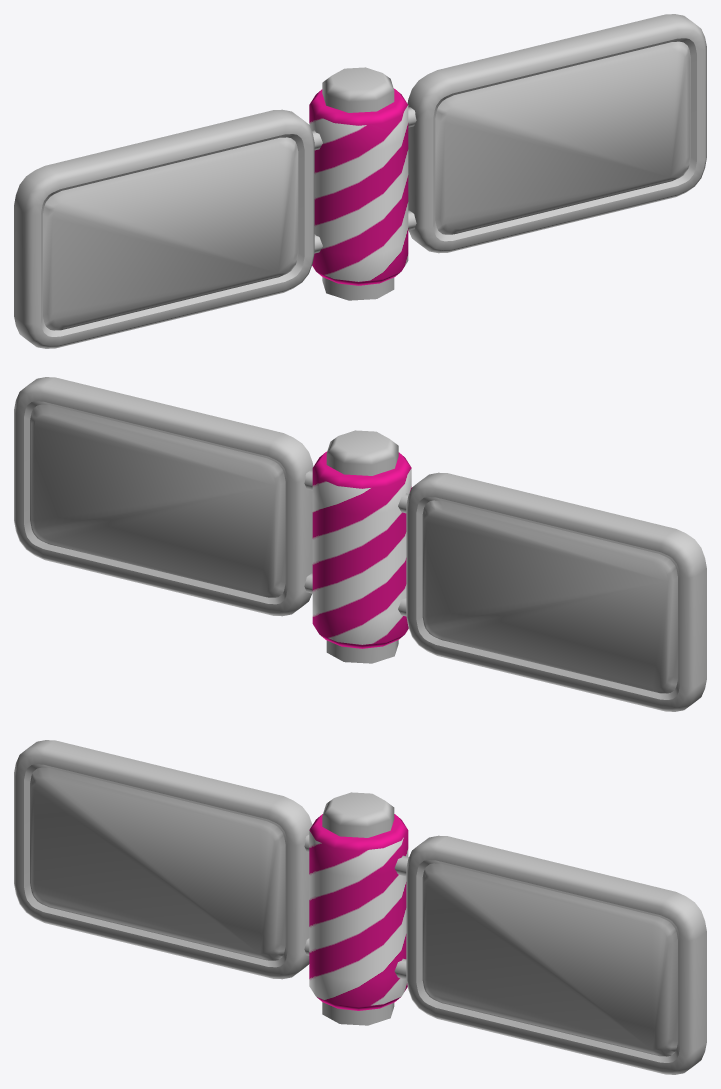
Rendered from obstacle_6_001.fbx.
3 views of the same model, one above another, from view 1: azimuth 30°, elevation 25°; view 2: azimuth 150°, elevation 25°; view 3: azimuth 330°, elevation 25° (orthographic).
Visible parts, largest first — view 1: obstacle_6_001; view 2: obstacle_6_001; view 3: obstacle_6_001.
Boxes of the visible parts, x1,y1,x2,y2 form: obstacle_6_001: (14,14,706,348); obstacle_6_001: (14,377,706,711); obstacle_6_001: (14,740,706,1074).
Bounding box in the file's own units: 549 × 68.95 × 159.
